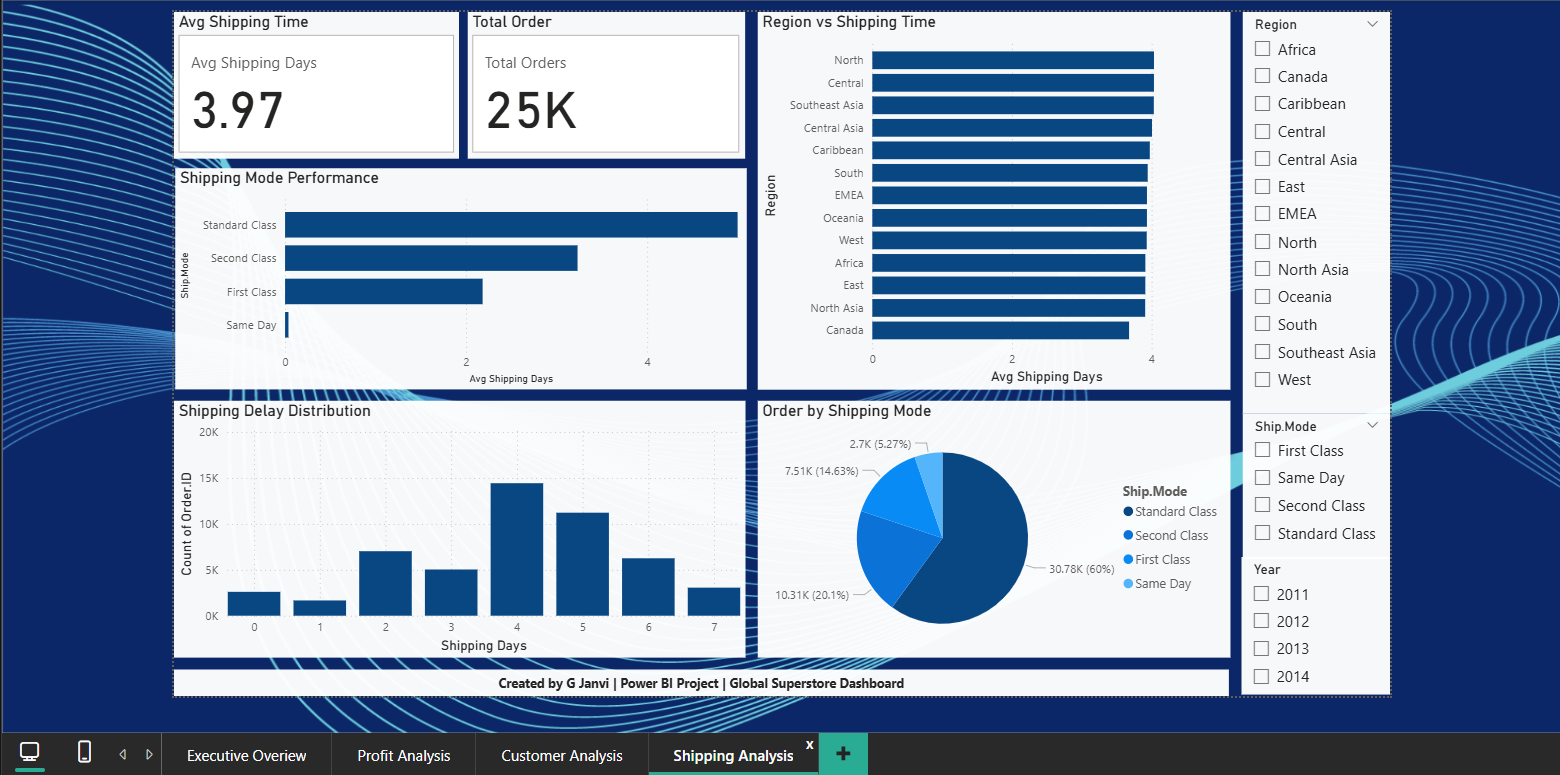

Layout of this report page (visuals, bound fields, positions):
{"tool":"powerbi","page":{"name":"Shipping Analysis","canvas":[1280,720],"ordinal":3},"visuals":[{"type":"cardVisual","title":"Avg Shipping Time","fields":{"Data":["DateTable.Avg Shipping Days"]},"box":[0,0,300,154.1],"z":0},{"type":"slicer","title":"Shipping Mode Performance","fields":{"Values":["superstore.Ship.Mode"]},"box":[1124.7,422.1,155.8,153.2],"z":1000},{"type":"columnChart","title":"Shipping Delay Distribution","fields":{"Category":["superstore.Shipping Days"],"Y":["CountNonNull(superstore.Order.ID)"]},"box":[0,409.5,601.4,270.3],"z":2000},{"type":"clusteredBarChart","title":"Region vs Shipping Time","fields":{"Category":["superstore.Region"],"Y":["DateTable.Avg Shipping Days"]},"box":[614.9,0,497.3,397.3],"z":3000},{"type":"pieChart","title":" Order by Shipping Mode","fields":{"Category":["superstore.Ship.Mode"],"Y":["CountNonNull(superstore.Order.ID)"]},"box":[614.9,409.5,497.3,270.3],"z":4000},{"type":"cardVisual","title":"Total Order","fields":{"Data":["DateTable.Total Orders"]},"box":[309.5,0,291.9,154.1],"z":5000},{"type":"slicer","fields":{"Values":["superstore.Region"]},"box":[1124.7,0,155.8,422.1],"z":6000},{"type":"slicer","fields":{"Values":["DateTable.Year"]},"box":[1124.3,574.3,156.8,144.6],"z":7000},{"type":"clusteredBarChart","title":"Shipping Mode Performance","fields":{"Category":["superstore.Ship.Mode"],"Y":["DateTable.Avg Shipping Days"]},"box":[1.4,164.9,601.4,232.4],"z":8000},{"type":"textbox","box":[0,691.7,1110,28.3],"z":8001}]}

Visuals, with their boxes on the page's 1280x720 design canvas (x1, y1, x2, y2). These are canvas units, not pixel positions in the 1560x775 screenshot, which may show the page scaled, cropped or inside an application window:
"Avg Shipping Time" cardVisual: bbox=(0, 0, 300, 154)
"Shipping Mode Performance" slicer: bbox=(1125, 422, 1280, 575)
"Shipping Delay Distribution" columnChart: bbox=(0, 410, 601, 680)
"Region vs Shipping Time" clusteredBarChart: bbox=(615, 0, 1112, 397)
" Order by Shipping Mode" pieChart: bbox=(615, 410, 1112, 680)
"Total Order" cardVisual: bbox=(310, 0, 601, 154)
slicer - superstore.Region: bbox=(1125, 0, 1280, 422)
slicer - DateTable.Year: bbox=(1124, 574, 1281, 719)
"Shipping Mode Performance" clusteredBarChart: bbox=(1, 165, 603, 397)
textbox: bbox=(0, 692, 1110, 720)
